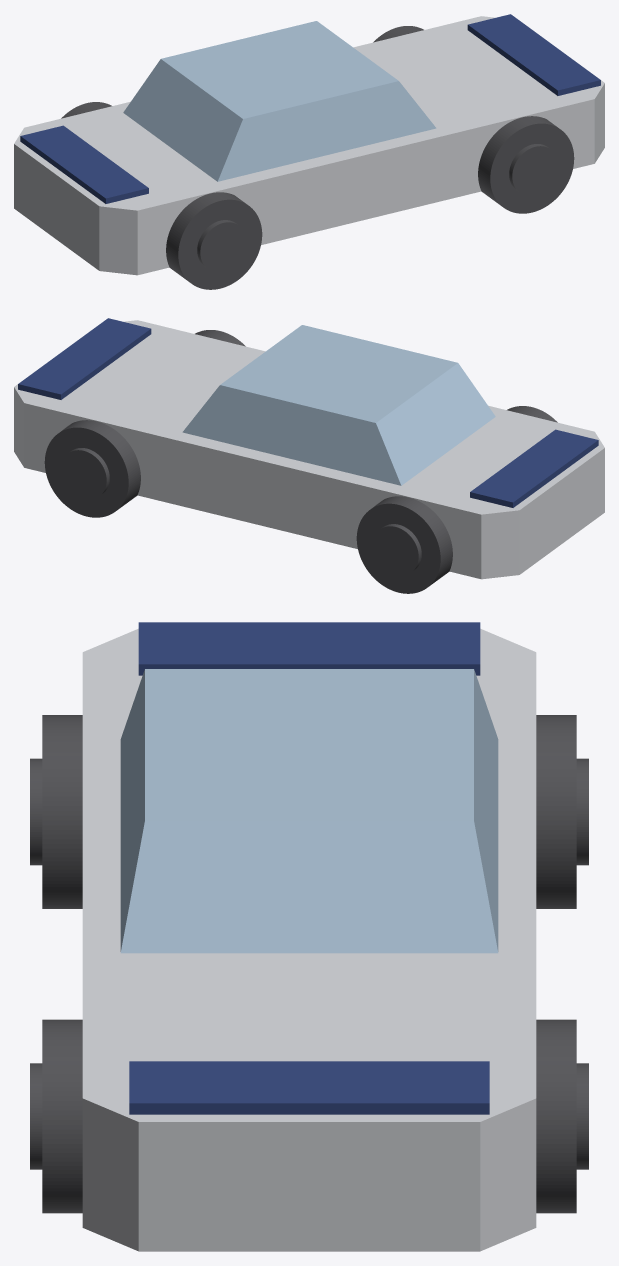
The model's file is hero.glb.
The picture shows the model from 3 angles, top to bottom: view 1: azimuth 30°, elevation 25°; view 2: azimuth 150°, elevation 25°; view 3: azimuth 270°, elevation 25°; orthographic projection. The views are drawn at different scales.
Visible parts, largest first — view 1: chassis, cabin, wheel_rr, wheel_fr, solar_hood, solar_deck; view 2: chassis, cabin, wheel_rl, wheel_fl, solar_hood, solar_deck; view 3: chassis, cabin, solar_hood, solar_deck, wheel_fl, wheel_fr, wheel_rl, wheel_rr.
Part boxes in pixels (x1,y1,x2,y2): chassis: (14, 16, 604, 275); cabin: (123, 21, 436, 181); wheel_rr: (166, 192, 262, 289); wheel_fr: (478, 116, 574, 213); solar_hood: (467, 14, 600, 95); solar_deck: (20, 125, 148, 203); chassis: (14, 320, 604, 579); cabin: (182, 325, 495, 485); wheel_rl: (356, 496, 452, 593); wheel_fl: (44, 420, 140, 517); solar_hood: (18, 318, 151, 399); solar_deck: (470, 429, 598, 507); chassis: (82, 628, 536, 1251); cabin: (120, 669, 498, 953); solar_hood: (129, 1061, 489, 1114); solar_deck: (138, 622, 480, 675); wheel_fl: (536, 1019, 588, 1213); wheel_fr: (30, 1019, 82, 1213); wheel_rl: (536, 715, 588, 908); wheel_rr: (30, 715, 82, 908).
Size of the model in its own units: 5 by 1.31 by 2.39.
